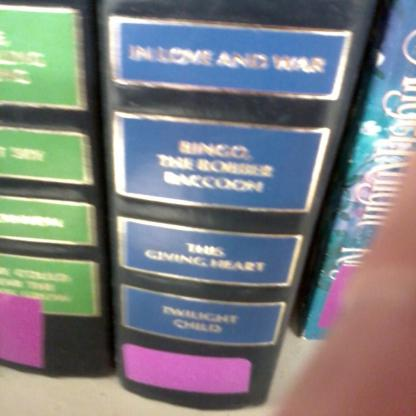book: (96, 0, 382, 411), (1, 0, 113, 377), (298, 0, 414, 343)
